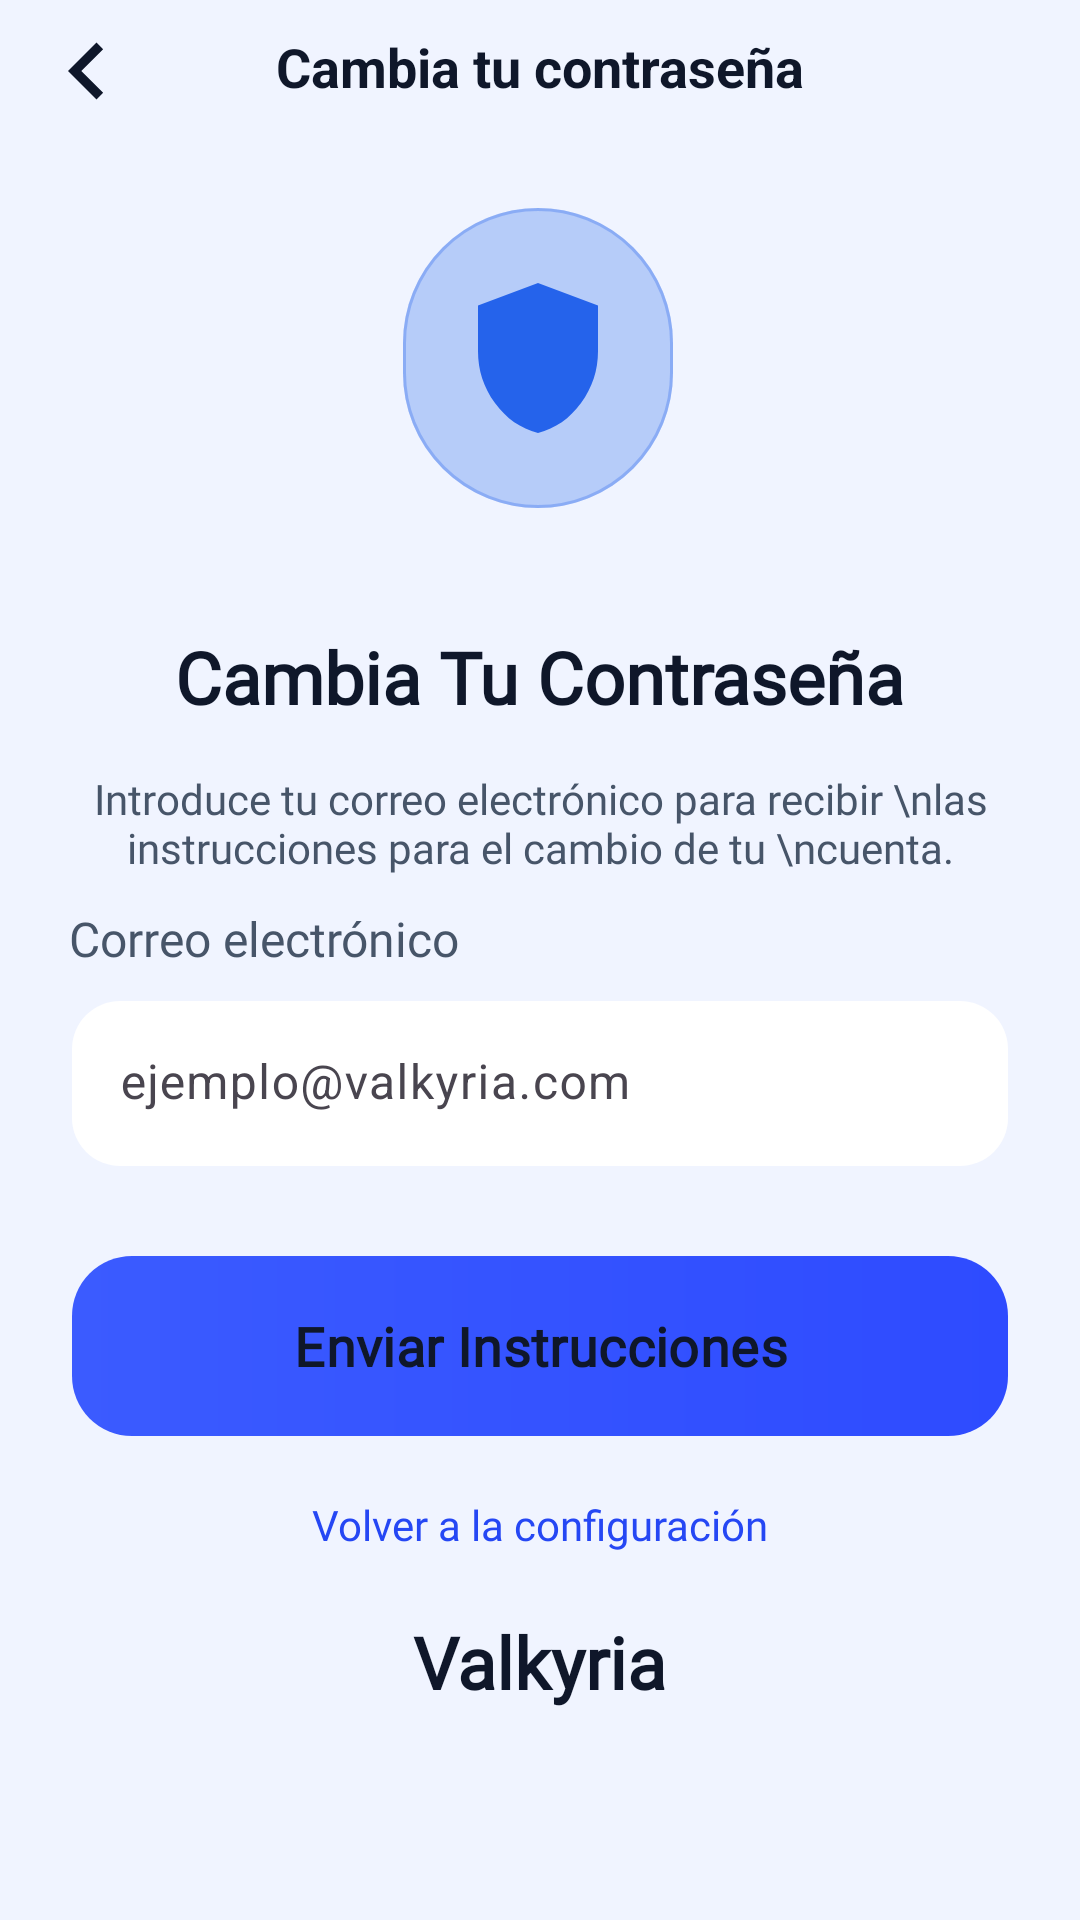

Point at icon controls on the screen. Image size 1080*1920, points as [x,y].
back: [85,71]
